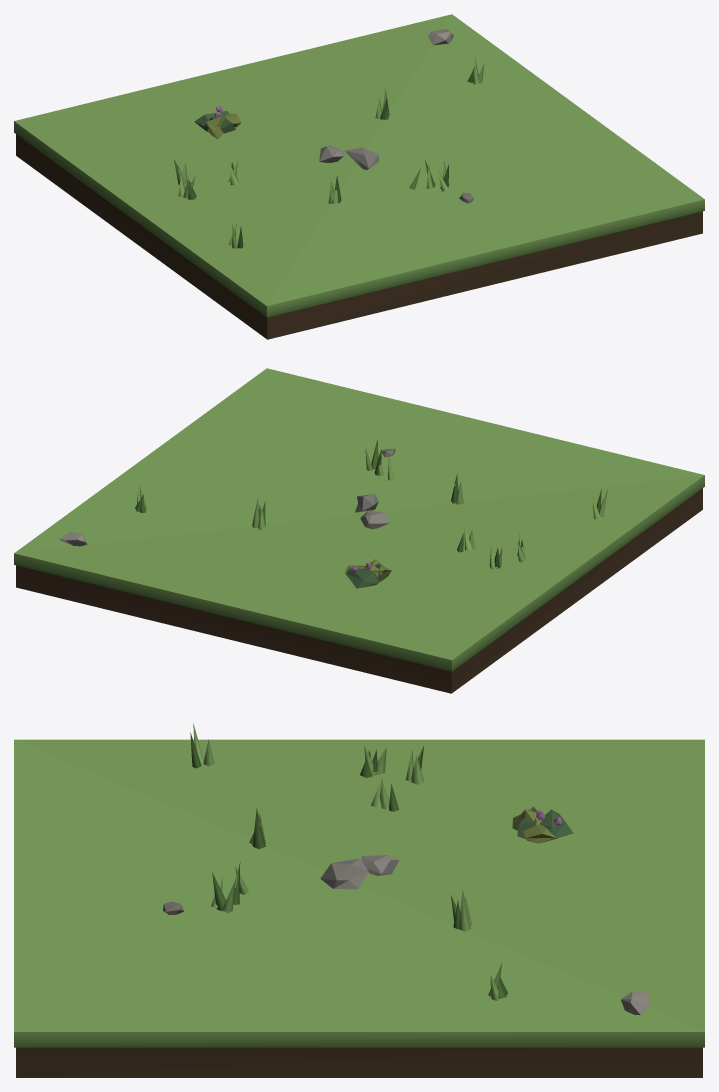
File: fjord-turf-tile.glb
3 renders of one model, top to bottom at view 1: azimuth 30°, elevation 25°; view 2: azimuth 150°, elevation 25°; view 3: azimuth 270°, elevation 25°, orthographic. The views are drawn at different scales.
Parts seen in each view (by area): view 1: fjord_turf_tile; view 2: fjord_turf_tile; view 3: fjord_turf_tile.
Part boxes in pixels (box(x1,y1,x2,y2)): fjord_turf_tile: box(14, 14, 704, 339); fjord_turf_tile: box(14, 368, 704, 693); fjord_turf_tile: box(14, 723, 704, 1077).
Bounding box in the file's own units: 4 × 0.554 × 4.
